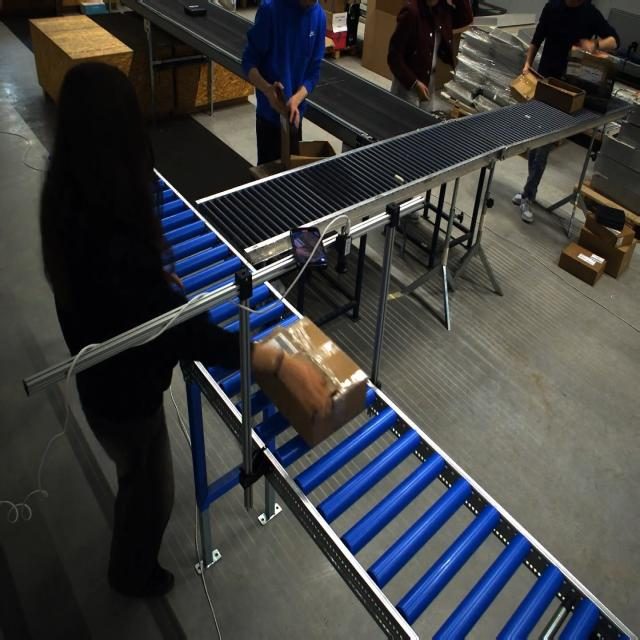box: (251, 318, 358, 445), (295, 140, 334, 158)
product: (183, 4, 207, 17)
